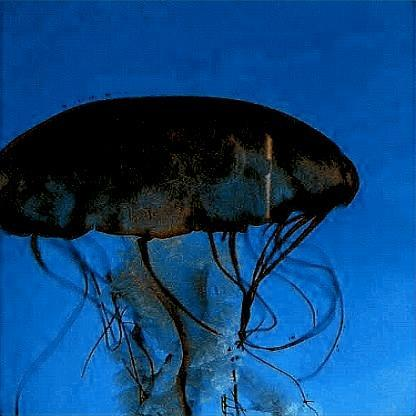Dressed: (7, 98, 359, 414)
